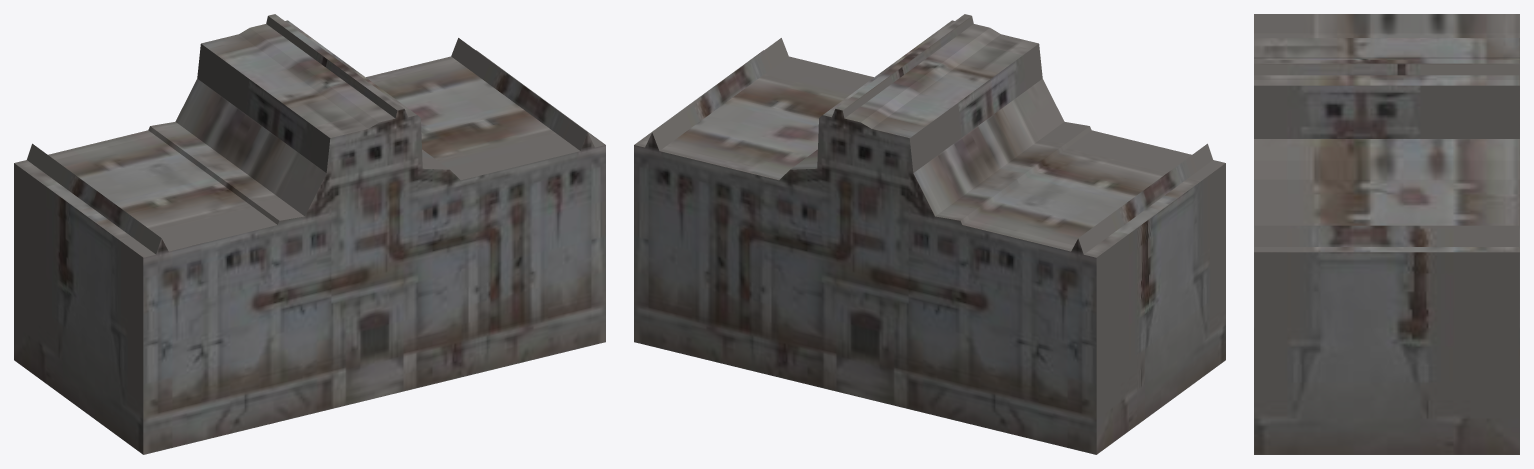
The model's file is bg_city_building_5_lod1.glb.
3 views of the same model, side by side, from view 1: azimuth 30°, elevation 25°; view 2: azimuth 150°, elevation 25°; view 3: azimuth 270°, elevation 25° (orthographic). The views are drawn at different scales.
Visible parts, largest first — view 1: body; view 2: body; view 3: body.
Part boxes in pixels (<box>): body: <box>14,14,605,454</box>; body: <box>634,14,1225,454</box>; body: <box>1254,14,1519,454</box>.
Bounding box in the file's own units: 9 × 5.26 × 4.36.
Materials: 1 (1 with a texture image).
